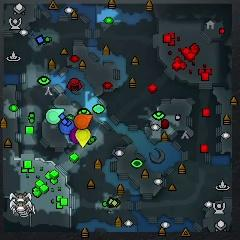p1: (60, 119, 75, 135)
p2: (45, 109, 65, 124)
p3: (69, 128, 78, 144)
p4: (75, 129, 91, 148)
p5: (74, 114, 93, 129)
